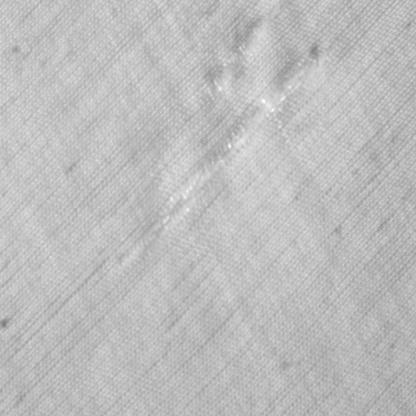thread error: (141, 0, 326, 242)
